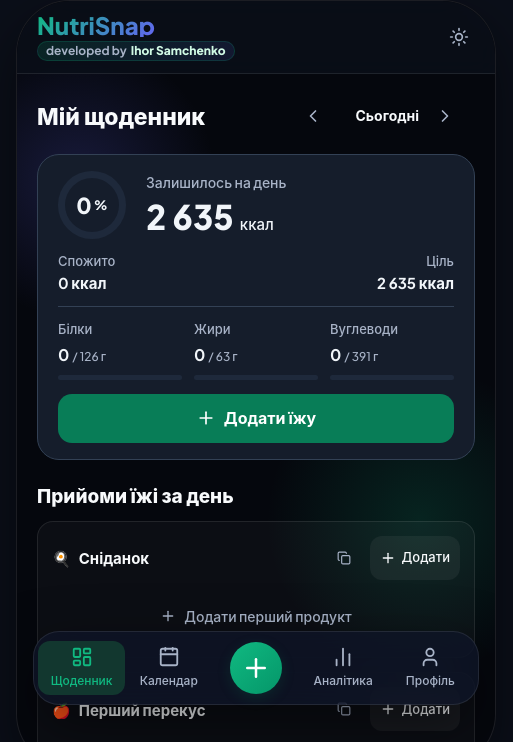
diary food entry › returns from the global add button to the screen that opened it
Click the button "Профіль": (430,668) [387,641,474,695]
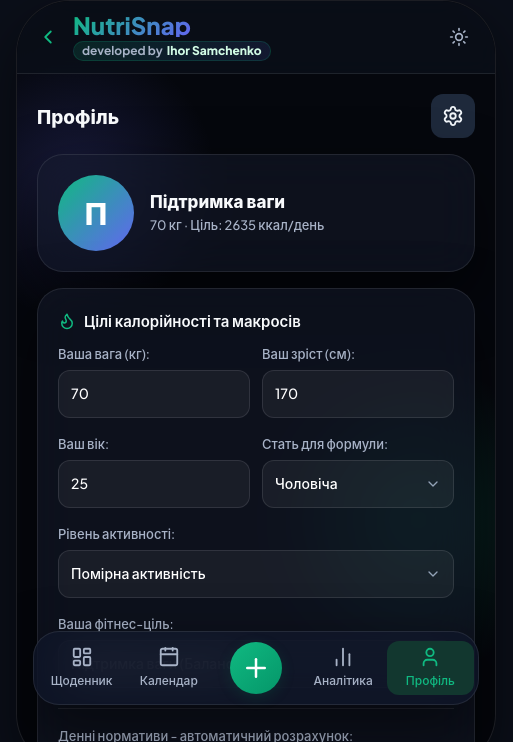
Click the button named "Додати їжу": (256,668) [230,642,282,694]
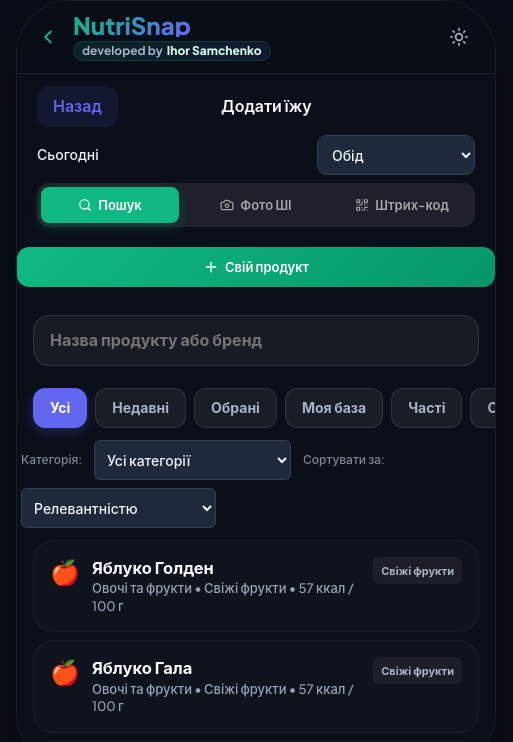
Click the button "Назад": (77,106) [37,86,118,127]
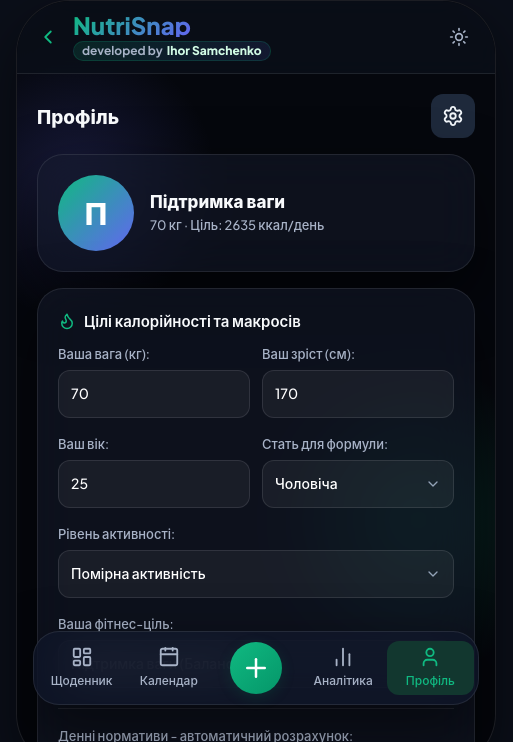
Expected: the heading "Профіль" is shown, [37,105,119,127]
